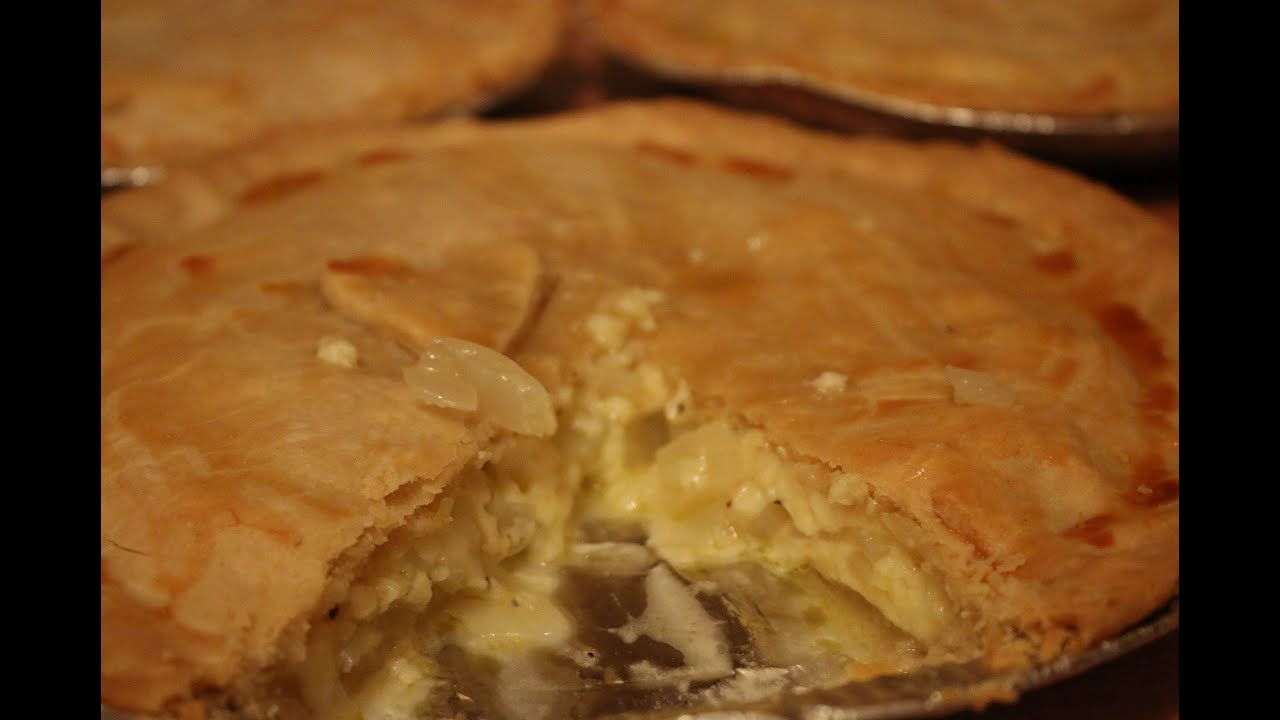cheese: (636, 197, 971, 444), (230, 239, 461, 364)
